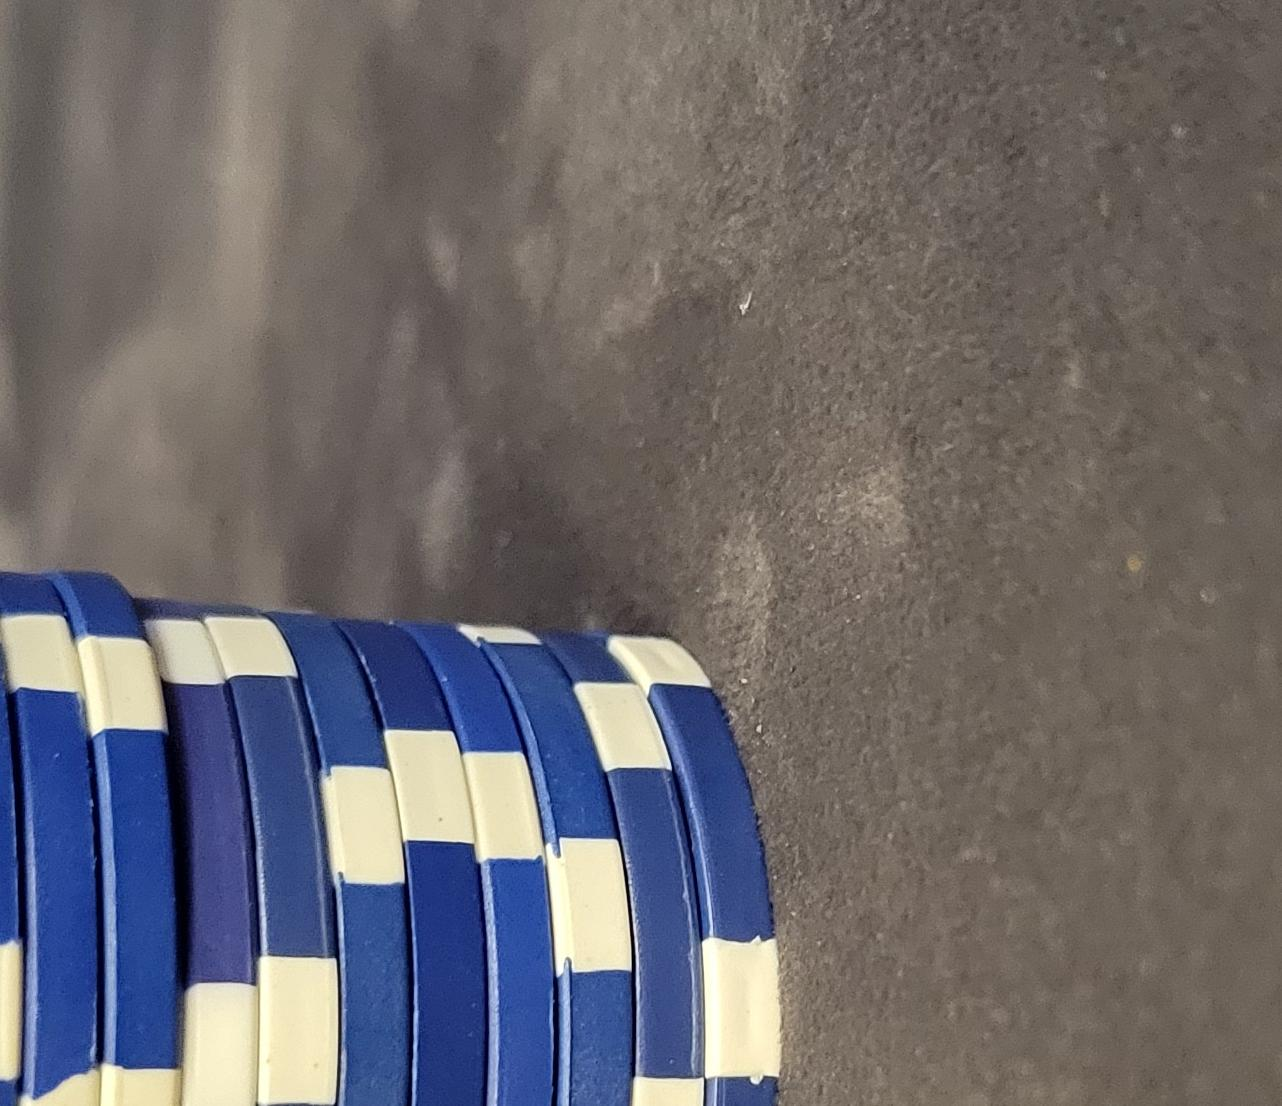Chip: (1, 180, 629, 1106)
